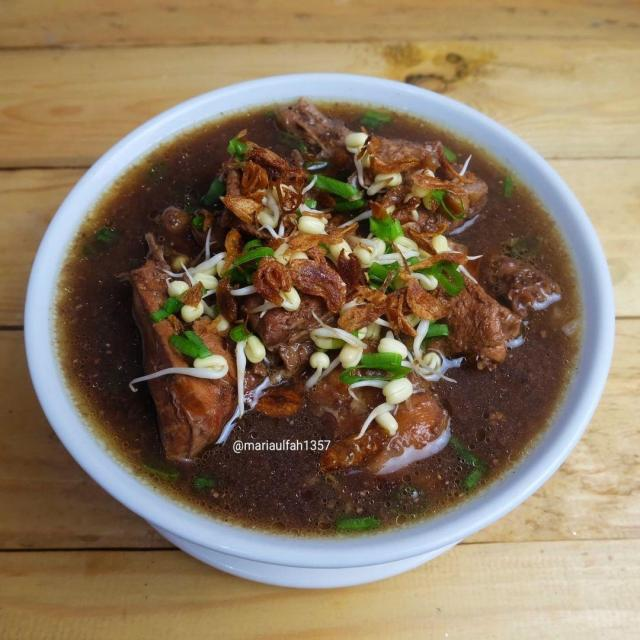Rawon: (60, 119, 572, 531)
